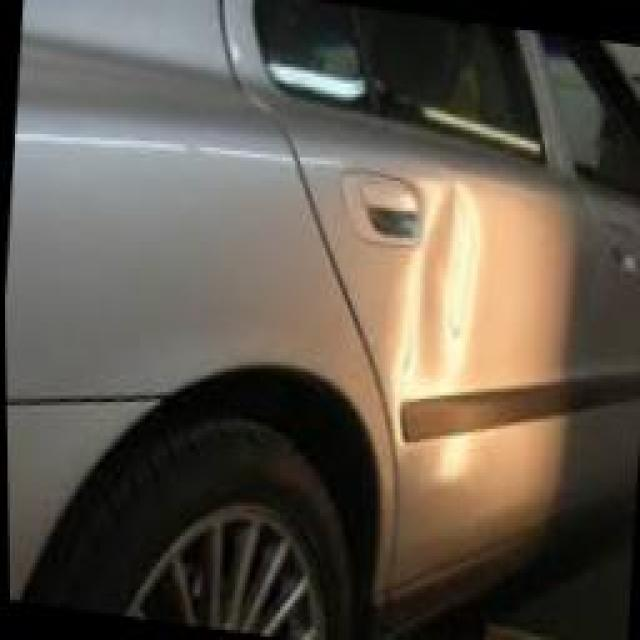Door: (352, 144, 594, 610)
